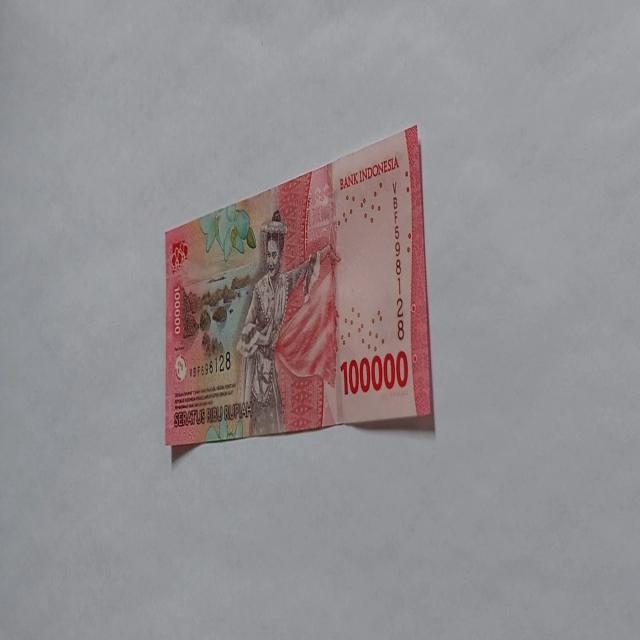seratus ribu rupiah: (163, 123, 434, 449), (234, 208, 320, 436)
